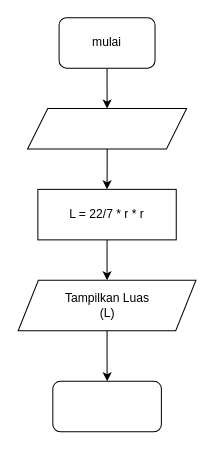
This 213x449 diagram has some shape labels left out. Here are the shapes that lost their labels. From the top down, the centre of each, then its label:
At point (107, 128): "Masukan jari-jari (r)".
At point (106, 406): "selesai".
